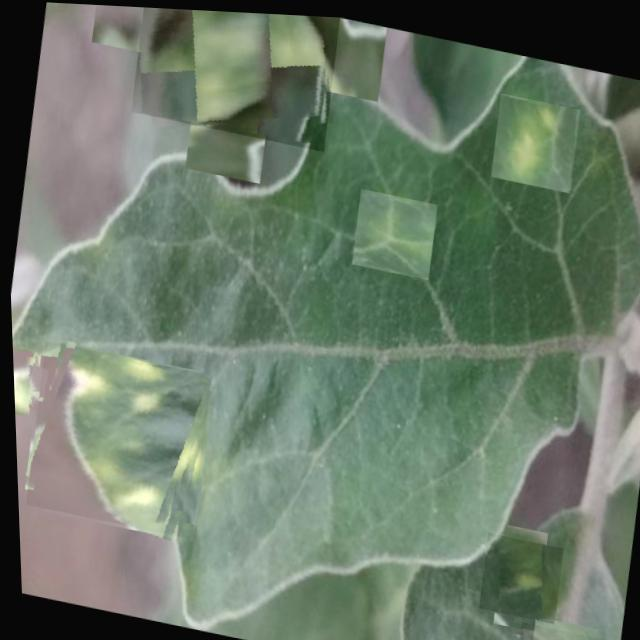leaf_spot: (17, 339, 214, 538), (127, 5, 344, 148), (488, 87, 583, 187), (348, 183, 438, 275), (472, 526, 562, 618), (505, 615, 605, 640), (10, 350, 45, 410), (10, 345, 33, 416)
